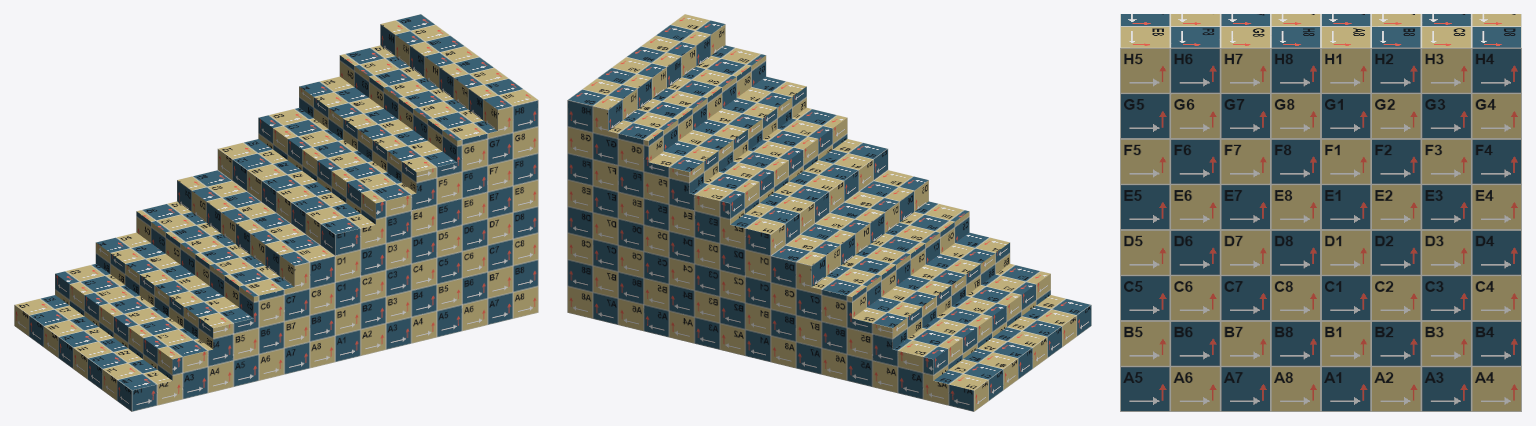
Rendered from STAIR_Straight.fbx.
3 views of the same model, side by side, from view 1: azimuth 30°, elevation 25°; view 2: azimuth 150°, elevation 25°; view 3: azimuth 270°, elevation 25° (orthographic). The views are drawn at different scales.
Visible parts, largest first — view 1: STAIR_Straight; view 2: STAIR_Straight; view 3: STAIR_Straight.
Boxes of the visible parts, x1,y1,x2,y2 form: STAIR_Straight: (14,14,538,411); STAIR_Straight: (567,14,1091,411); STAIR_Straight: (1120,14,1521,411).
Size of the model in its own units: 400 by 200 by 200.
1 material, 1 textured.
